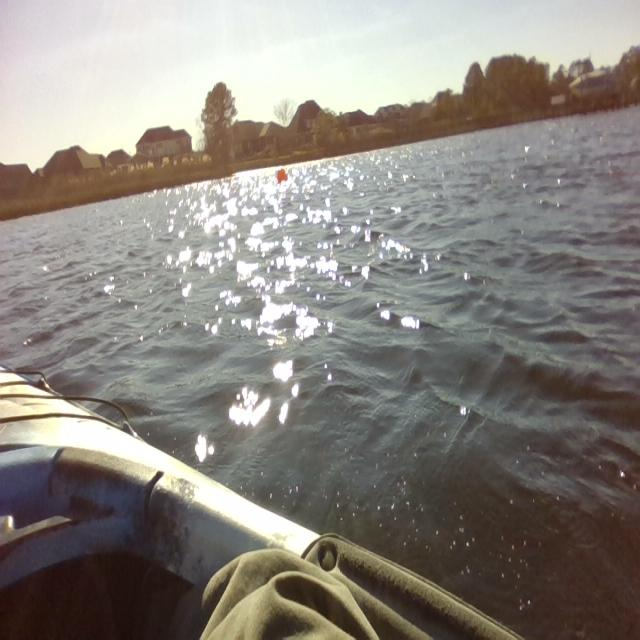Buoy: (272, 162, 292, 188)
